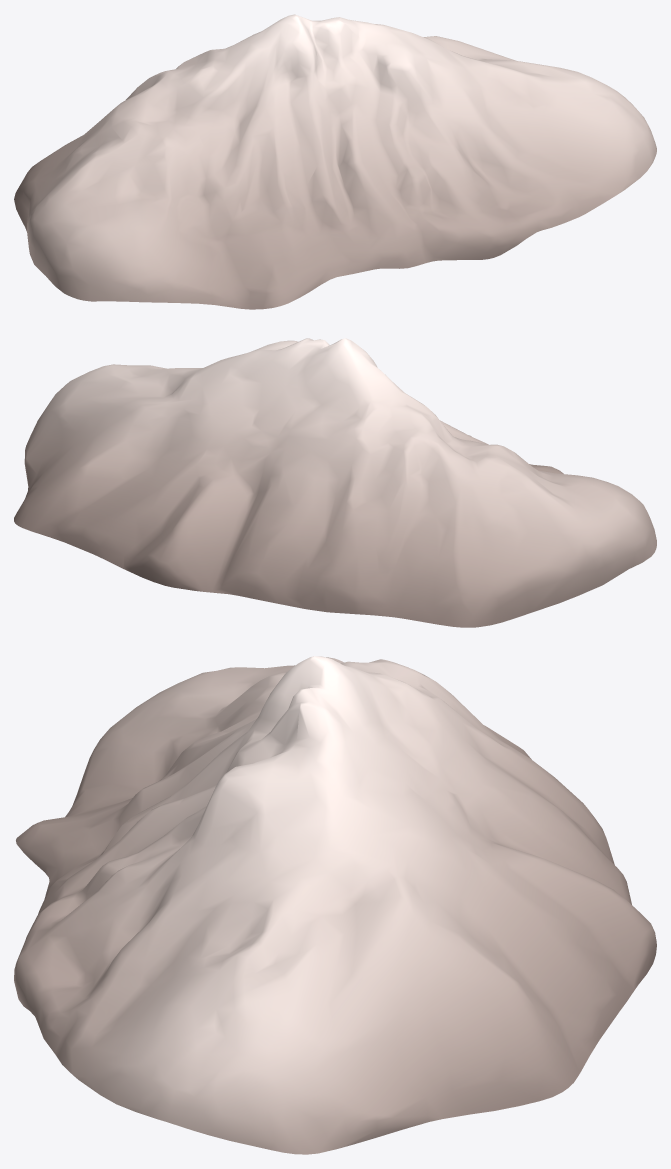
Rendered from Mountain_07.glb.
3 renders of one model, top to bottom at view 1: azimuth 30°, elevation 25°; view 2: azimuth 150°, elevation 25°; view 3: azimuth 270°, elevation 25°, orthographic. The views are drawn at different scales.
Visible parts, largest first — view 1: Mountain_07; view 2: Mountain_07; view 3: Mountain_07.
Boxes of the visible parts, bbox=[...] form: Mountain_07: bbox=[14, 14, 656, 309]; Mountain_07: bbox=[14, 338, 656, 627]; Mountain_07: bbox=[14, 656, 656, 1154].
Bounding box in the file's own units: 42.06 × 12.95 × 27.31.
Materials: 1 (1 with a texture image).
